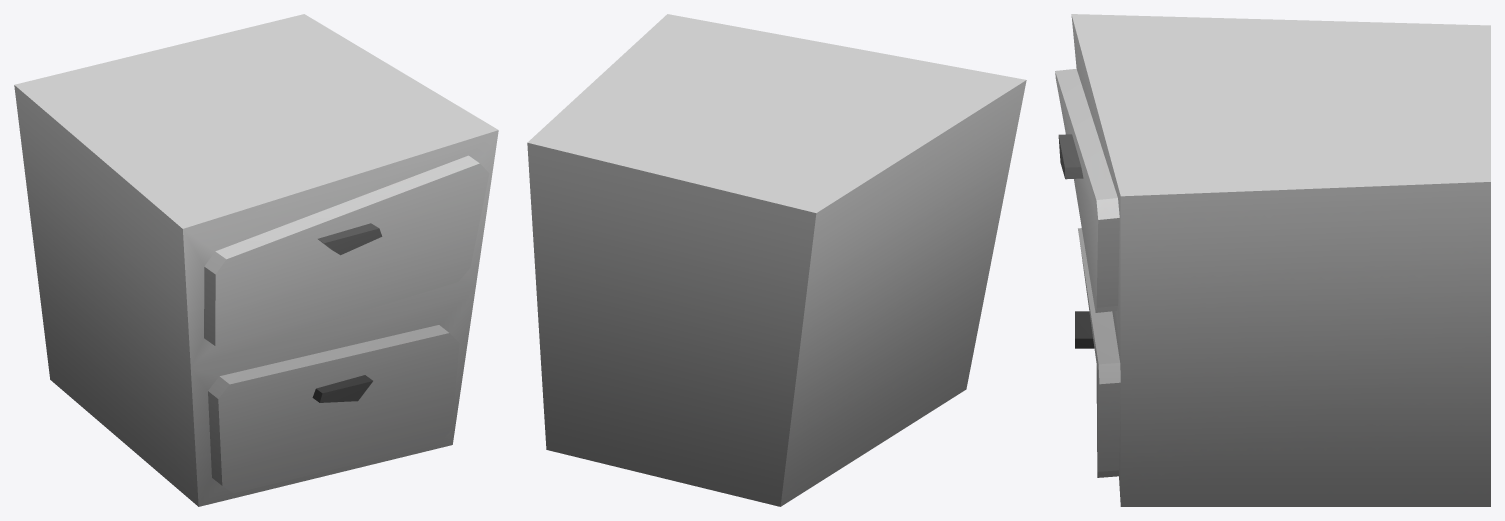
File: cucina.fbx
3 views of the same model, side by side, from view 1: azimuth 30°, elevation 25°; view 2: azimuth 150°, elevation 25°; view 3: azimuth 270°, elevation 25° (orthographic). The views are drawn at different scales.
Parts seen in each view (by area): view 1: cucina_2; view 2: cucina_2; view 3: cucina_2.
Boxes of the visible parts, x1,y1,x2,y2 form: cucina_2: (14,14,498,506); cucina_2: (527,14,1026,506); cucina_2: (1055,14,1490,506).
Bounding box in the file's own units: 141 × 121 × 142.
